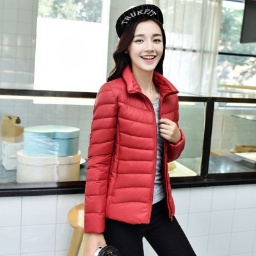face: (113, 15, 168, 77)
